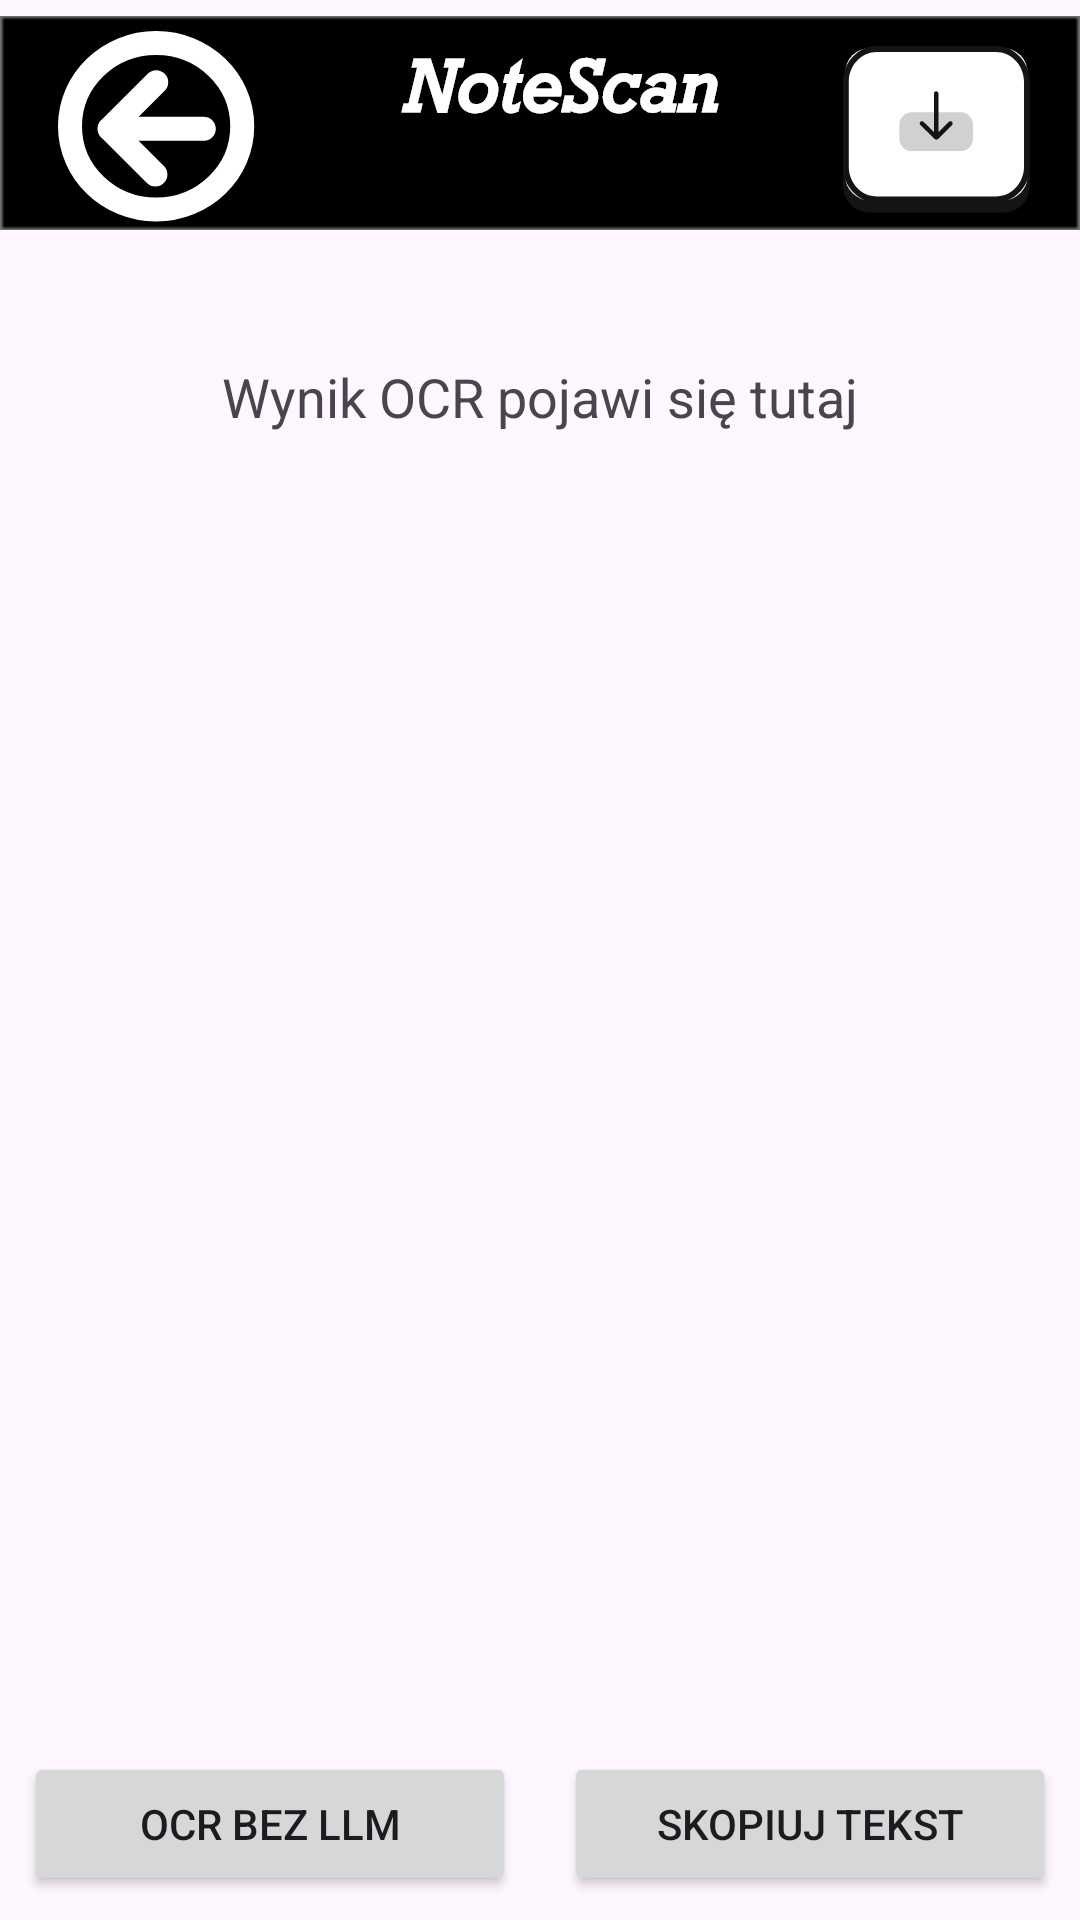

Screen size 1080px×1920px. Icon name, then its box in pixels as (x1, y1, x2, y2):
Back Button: (58, 31, 255, 222)
Save Button: (845, 48, 1028, 201)
